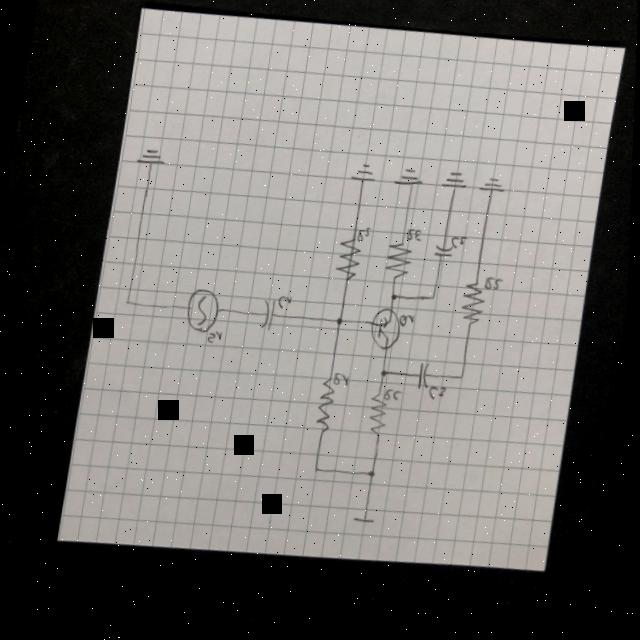capacitor: (262, 300, 281, 338), (418, 363, 437, 397), (434, 248, 456, 265)
ground: (393, 169, 426, 195), (137, 147, 169, 170), (441, 173, 470, 197), (350, 166, 379, 189), (478, 180, 509, 201)
junction: (125, 296, 135, 309), (430, 295, 439, 309), (390, 296, 400, 308), (315, 466, 324, 479), (459, 375, 468, 388), (337, 319, 346, 331), (382, 371, 391, 383), (371, 473, 380, 485)
resistor: (460, 284, 490, 334), (316, 380, 339, 442), (384, 244, 416, 288), (336, 238, 364, 287), (368, 396, 394, 441)
source: (185, 287, 225, 340), (355, 509, 382, 533)
text: (430, 389, 450, 408), (276, 297, 296, 315), (334, 375, 355, 392), (450, 239, 468, 257), (406, 232, 425, 249), (485, 282, 505, 298), (357, 230, 374, 248), (209, 332, 226, 349), (400, 318, 418, 334), (386, 393, 404, 408)
transistor: (369, 310, 407, 359)
